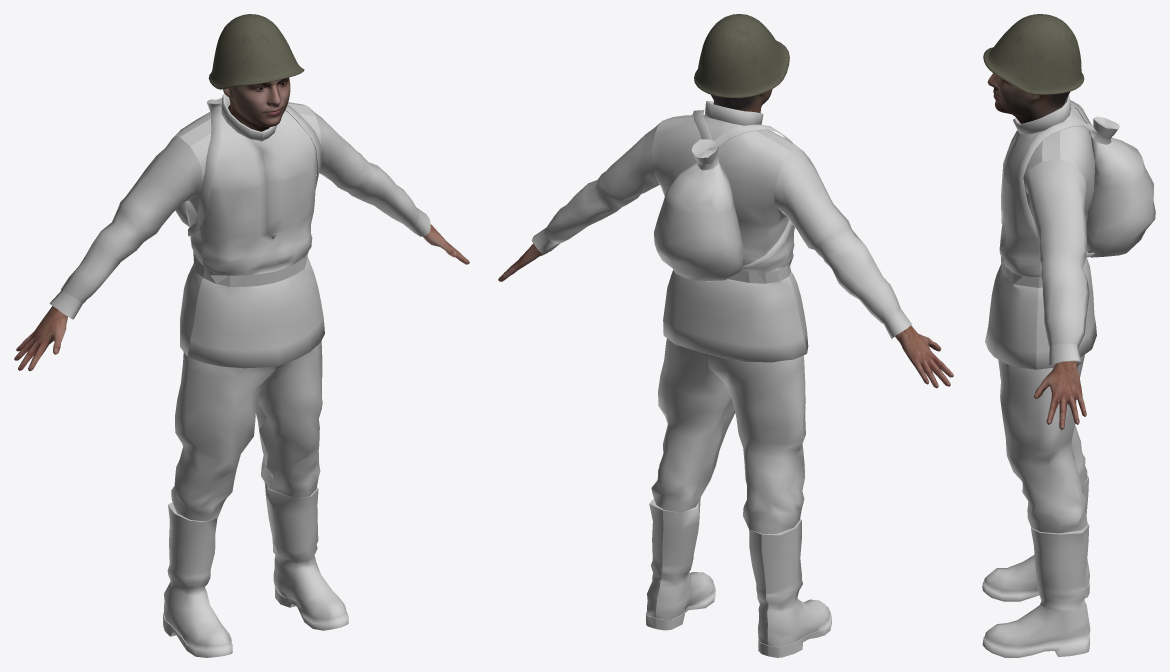
File: GuerillaVlad.FBX
The picture shows the model from 3 angles, left to right: view 1: azimuth 30°, elevation 25°; view 2: azimuth 150°, elevation 25°; view 3: azimuth 270°, elevation 25°; orthographic projection.
Visible parts, largest first — view 1: lib_rus_soldier.014, Kaciga_LOD0, default, lib_rus_soldier.002, lib_rus_soldier.004; view 2: lib_rus_soldier.014, lib_rus_soldier.002, Kaciga_LOD0, lib_rus_soldier.004, default; view 3: lib_rus_soldier.014, lib_rus_soldier.002, Kaciga_LOD0, default, lib_rus_soldier.004.
Boxes of the visible parts, x1,y1,x2,y2 form: lib_rus_soldier.014: [49, 94, 430, 657]; Kaciga_LOD0: [208, 14, 304, 89]; default: [223, 77, 290, 131]; lib_rus_soldier.002: [175, 97, 321, 236]; lib_rus_soldier.004: [14, 224, 469, 371]; lib_rus_soldier.014: [531, 100, 911, 657]; lib_rus_soldier.002: [654, 110, 793, 282]; Kaciga_LOD0: [694, 14, 789, 98]; lib_rus_soldier.004: [498, 243, 953, 388]; default: [711, 89, 772, 112]; lib_rus_soldier.014: [982, 95, 1096, 657]; lib_rus_soldier.002: [1018, 100, 1155, 257]; Kaciga_LOD0: [983, 14, 1084, 94]; default: [987, 73, 1069, 123]; lib_rus_soldier.004: [1034, 361, 1086, 429].
Size of the model in its own units: 292 by 378 by 98.39.
